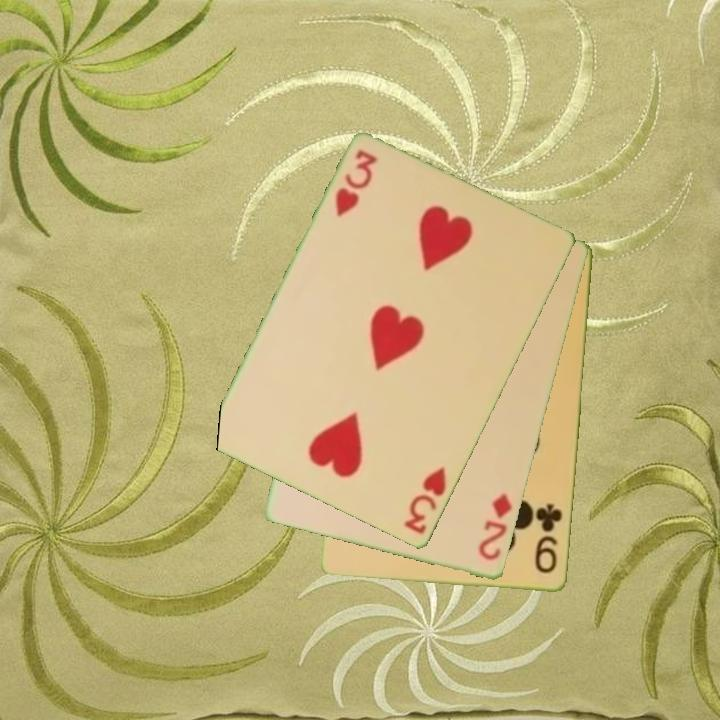2d: (475, 490, 516, 564)
3h: (401, 463, 450, 538), (332, 147, 381, 221)
9c: (532, 500, 566, 577)
